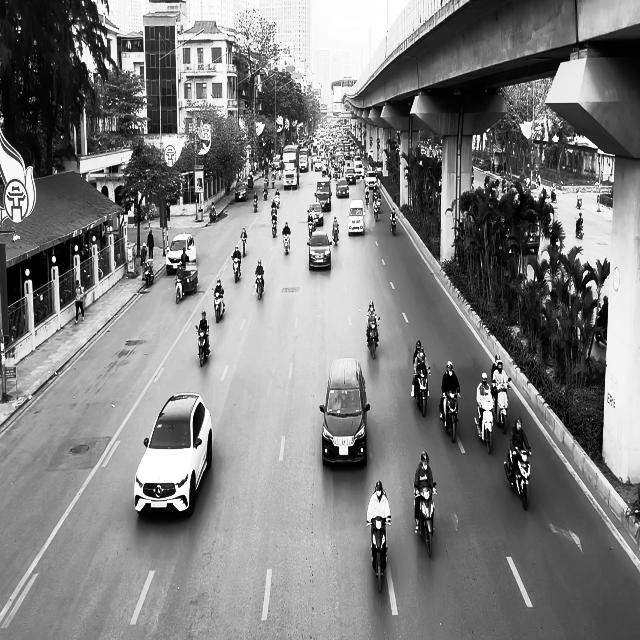bus: (282, 144, 300, 190)
car: (134, 392, 212, 517), (319, 358, 370, 467), (166, 233, 197, 275), (308, 230, 332, 271), (347, 199, 365, 235), (523, 222, 540, 254), (309, 202, 324, 226), (234, 182, 248, 201), (336, 178, 349, 197)
motorbike: (366, 516, 391, 592), (503, 446, 532, 510), (414, 482, 436, 558), (492, 377, 511, 434), (474, 402, 494, 454), (440, 391, 460, 442), (412, 368, 430, 417), (195, 324, 210, 367), (366, 316, 380, 358), (212, 288, 225, 323), (231, 254, 241, 283), (143, 260, 154, 286), (255, 272, 264, 299), (175, 276, 183, 304), (308, 217, 316, 241), (282, 231, 290, 254), (373, 198, 381, 220), (271, 212, 277, 238), (332, 226, 339, 246), (390, 213, 396, 236), (241, 236, 247, 256), (252, 195, 258, 212), (210, 209, 217, 222)
